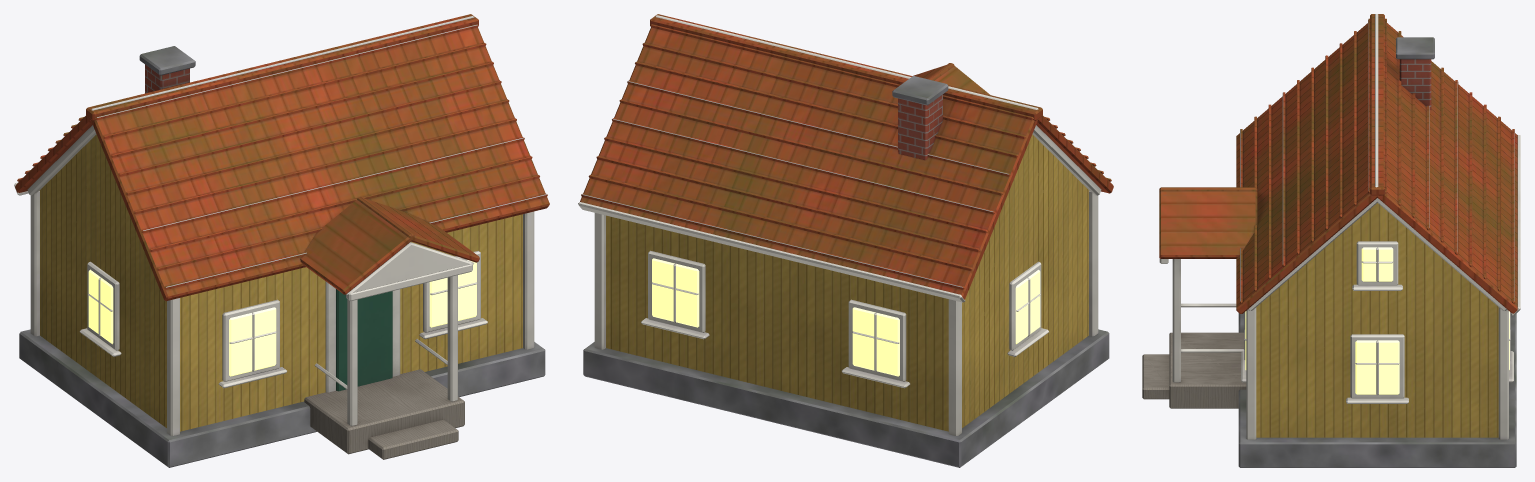
Rendered from gulstuga_tex.glb.
3 views of the same model, side by side, from view 1: azimuth 30°, elevation 25°; view 2: azimuth 150°, elevation 25°; view 3: azimuth 270°, elevation 25° (orthographic). The views are drawn at different scales.
Visible parts, largest first — view 1: gulstuga; view 2: gulstuga; view 3: gulstuga.
Part boxes in pixels (x1,y1,x2,y2): gulstuga: (14, 14, 549, 467); gulstuga: (578, 14, 1113, 467); gulstuga: (1142, 14, 1520, 467).
Bounding box in the file's own units: 6.55 × 5.16 × 5.99.
8 materials, 7 textured.
